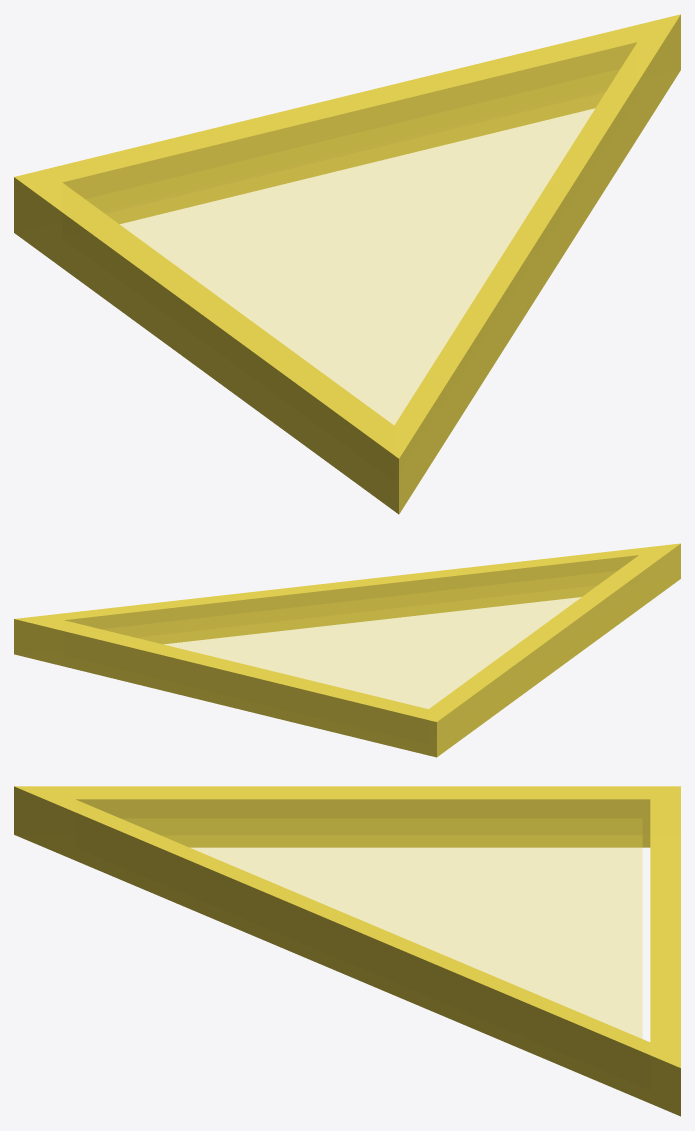
Rendered from tile-right-orange.glb.
The picture shows the model from 3 angles, top to bottom: view 1: azimuth 30°, elevation 25°; view 2: azimuth 150°, elevation 25°; view 3: azimuth 270°, elevation 25°; orthographic projection. The views are drawn at different scales.
Parts seen in each view (by area): view 1: tile; view 2: tile; view 3: tile.
Part boxes in pixels (box(x1,y1,x2,y2)): tile: box(14, 14, 680, 514); tile: box(14, 543, 680, 757); tile: box(14, 786, 680, 1116).
Bounding box in the file's own units: 1 × 0.08 × 1.
